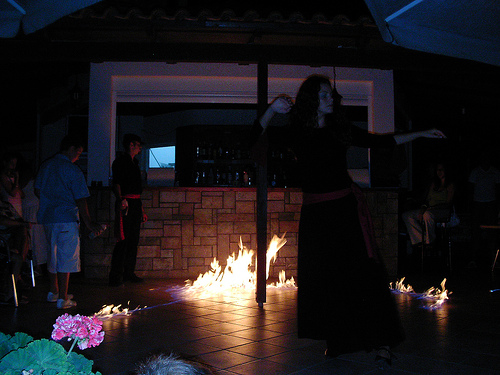fire: (176, 242, 301, 296)
